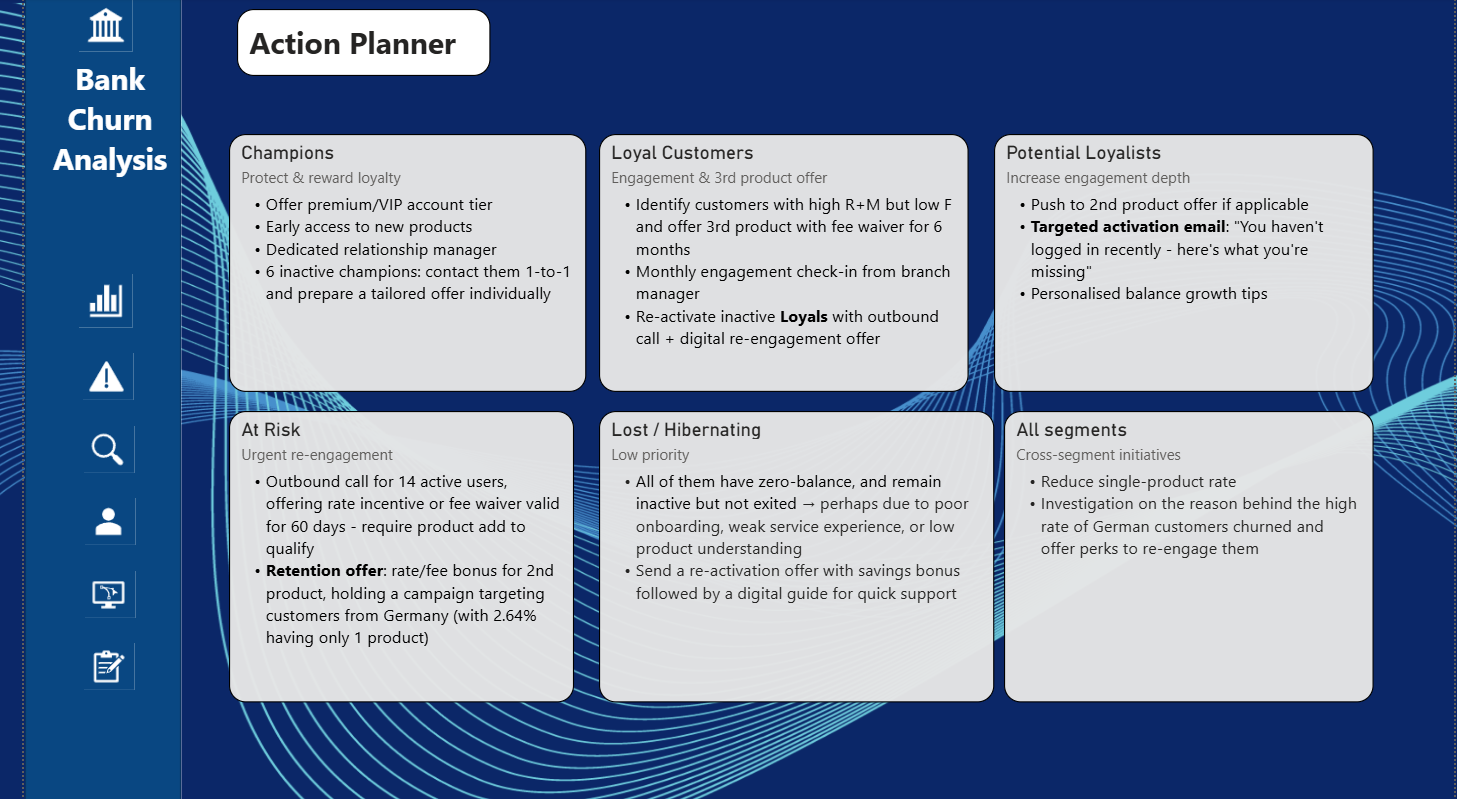

What the dashboard file says about the page in this screenshot:
{"tool":"powerbi","page":{"name":"📋Action Planner","canvas":[1280,720],"ordinal":5},"visuals":[{"type":"shape","box":[0.9,0,139.7,720.9],"z":0},{"type":"textbox","box":[190.7,9.9,226.6,60],"z":1000},{"type":"textbox","title":"Champions","box":[183.6,121.8,319.7,231],"z":2000},{"type":"textbox","title":"Loyal Customers","box":[514.9,121.8,331.3,231],"z":3000},{"type":"textbox","title":"Potential Loyalists","box":[868.7,121.8,340.3,231],"z":4000},{"type":"textbox","title":"At Risk","box":[183.6,369.9,309,261.5],"z":5000},{"type":"textbox","title":"Lost / Hibernating","box":[514.9,369.9,353.7,261.5],"z":6000},{"type":"textbox","title":"All segments","box":[877.6,369.9,331.3,261.5],"z":7000},{"type":"actionButton","box":[49.3,247.2,48.4,48.4],"z":8000},{"type":"actionButton","box":[53.9,383.1,44.8,42.1],"z":9000},{"type":"actionButton","box":[54.3,512.8,44.8,42.1],"z":10000},{"type":"actionButton","box":[53.2,318.3,44.8,42.1],"z":11000},{"type":"actionButton","box":[54.6,447.9,44.8,42.1],"z":12000},{"type":"actionButton","box":[53.6,577.6,44.8,42.1],"z":13000},{"type":"textbox","box":[7.2,48.4,139.7,128.1],"z":14000},{"type":"actionButton","box":[49.3,0,48.4,48.4],"z":15000}]}

Visuals, with their boxes on the page's 1280x720 design canvas (x1, y1, x2, y2). These are canvas units, not pixel positions in the 1457x799 screenshot, which may show the page scaled, cropped or inside an application window:
shape: crop(1, 0, 141, 721)
textbox: crop(191, 10, 417, 70)
"Champions" textbox: crop(184, 122, 503, 353)
"Loyal Customers" textbox: crop(515, 122, 846, 353)
"Potential Loyalists" textbox: crop(869, 122, 1209, 353)
"At Risk" textbox: crop(184, 370, 493, 631)
"Lost / Hibernating" textbox: crop(515, 370, 869, 631)
"All segments" textbox: crop(878, 370, 1209, 631)
actionButton: crop(49, 247, 98, 296)
actionButton: crop(54, 383, 99, 425)
actionButton: crop(54, 513, 99, 555)
actionButton: crop(53, 318, 98, 360)
actionButton: crop(55, 448, 99, 490)
actionButton: crop(54, 578, 98, 620)
textbox: crop(7, 48, 147, 176)
actionButton: crop(49, 0, 98, 48)
